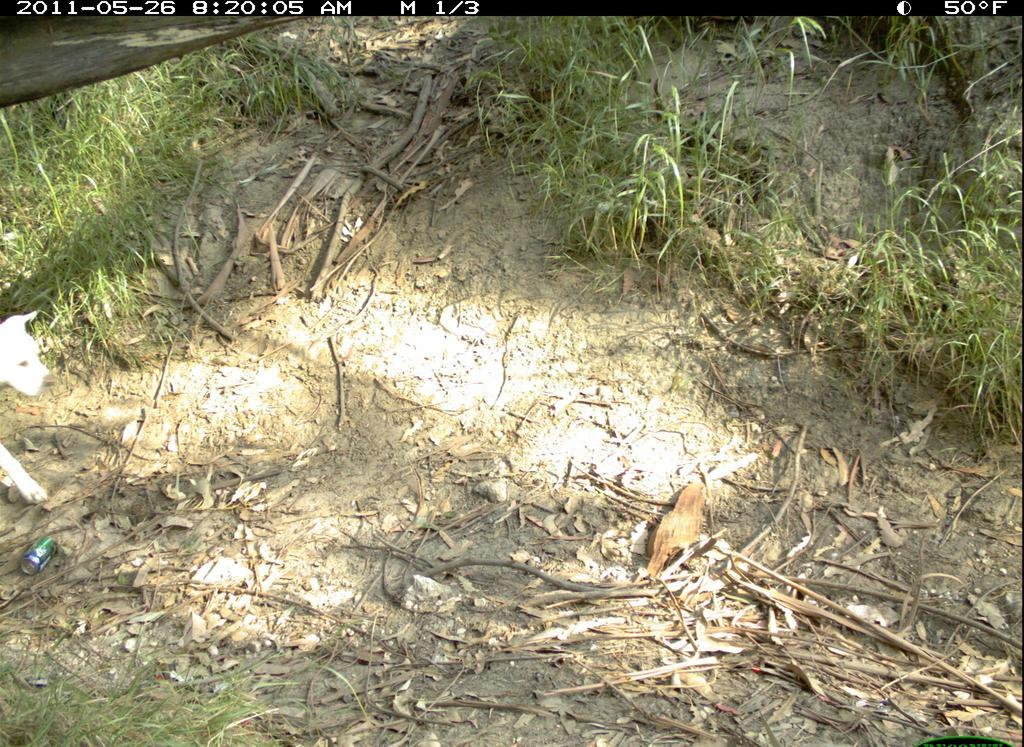dog: (1, 286, 68, 515)
